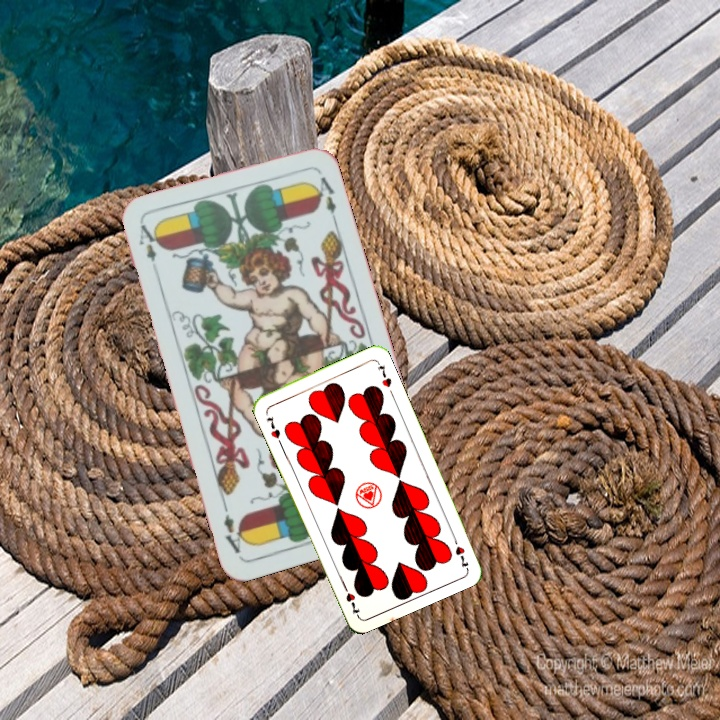EA: (135, 220, 160, 265)
H7: (449, 532, 471, 571), (262, 412, 283, 441)
